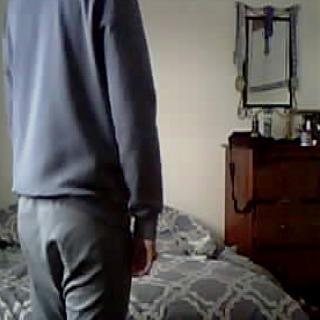Blue Hoodie: (0, 0, 159, 200)
Blue Sweatpants: (14, 200, 132, 320)
